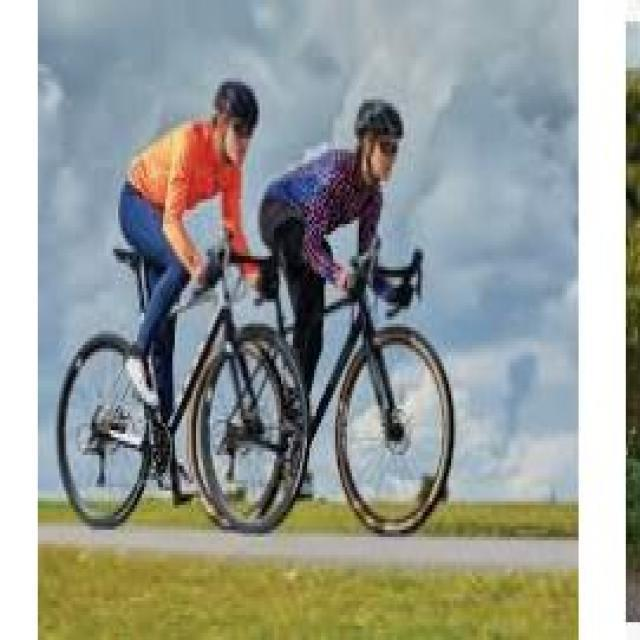bicycle: (188, 229, 453, 542), (55, 229, 308, 535)
